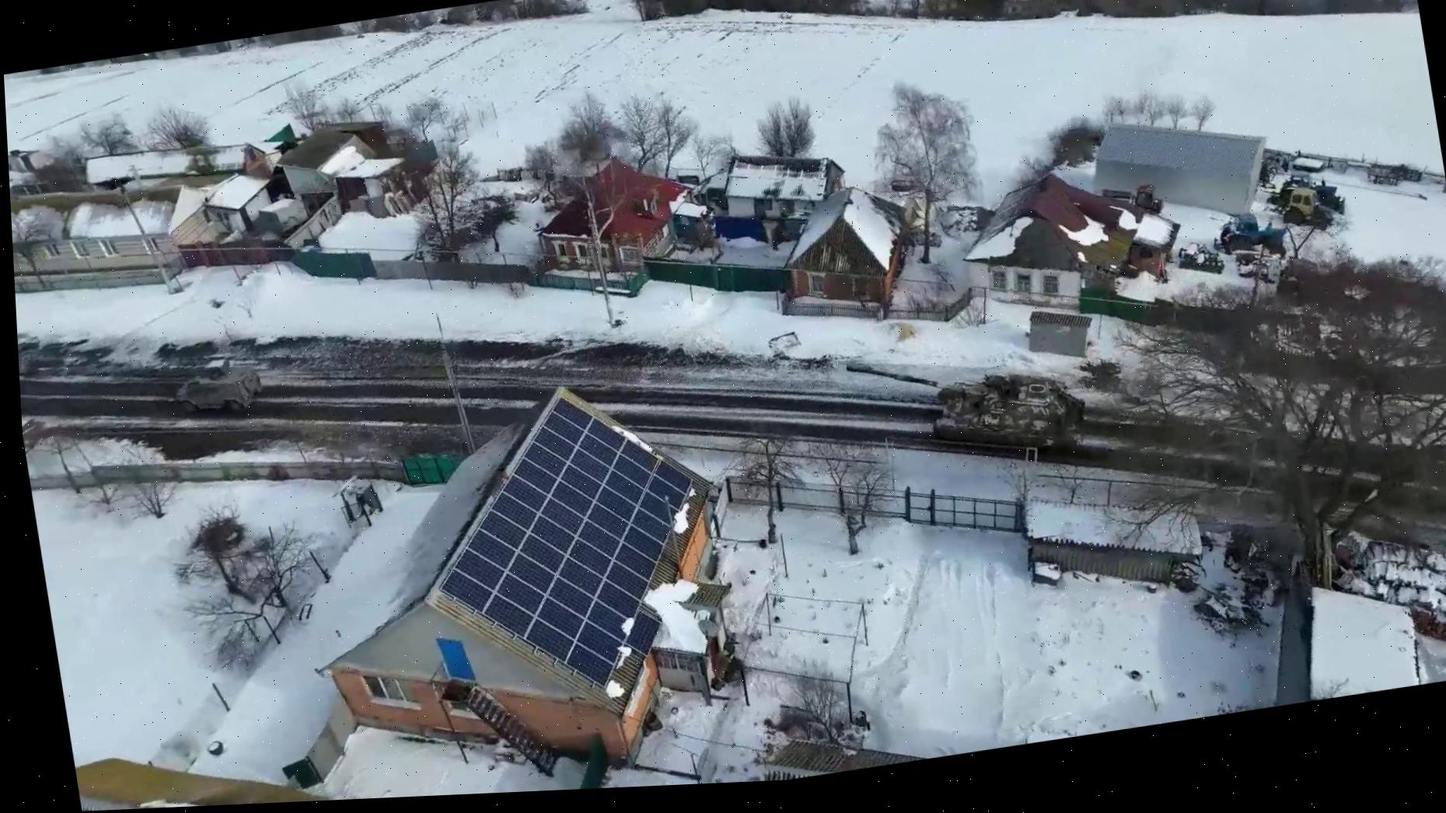armored_car: (160, 349, 267, 428)
car: (1204, 200, 1290, 268), (1278, 179, 1344, 234)
sau: (842, 328, 1092, 486)
